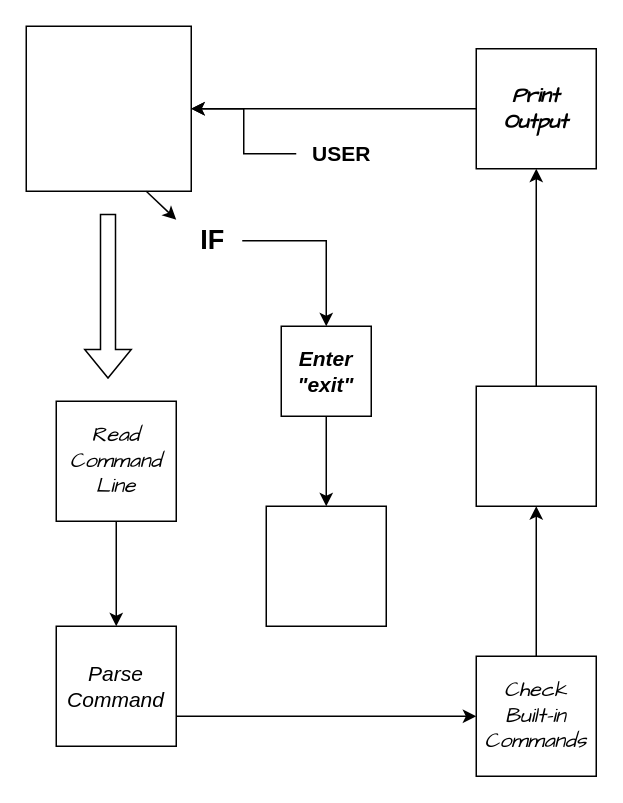
Image size: 623x803. Some labels were removed from this diagram. The shapes that lost their labels are listed below. From the top down, each one's box as (x1, y1, x2, y2) in pixels, then its label:
(25, 25, 191, 191): Start SHELL
(475, 385, 596, 506): Execute External Command
(265, 505, 386, 626): END OF THE PROGRAM
